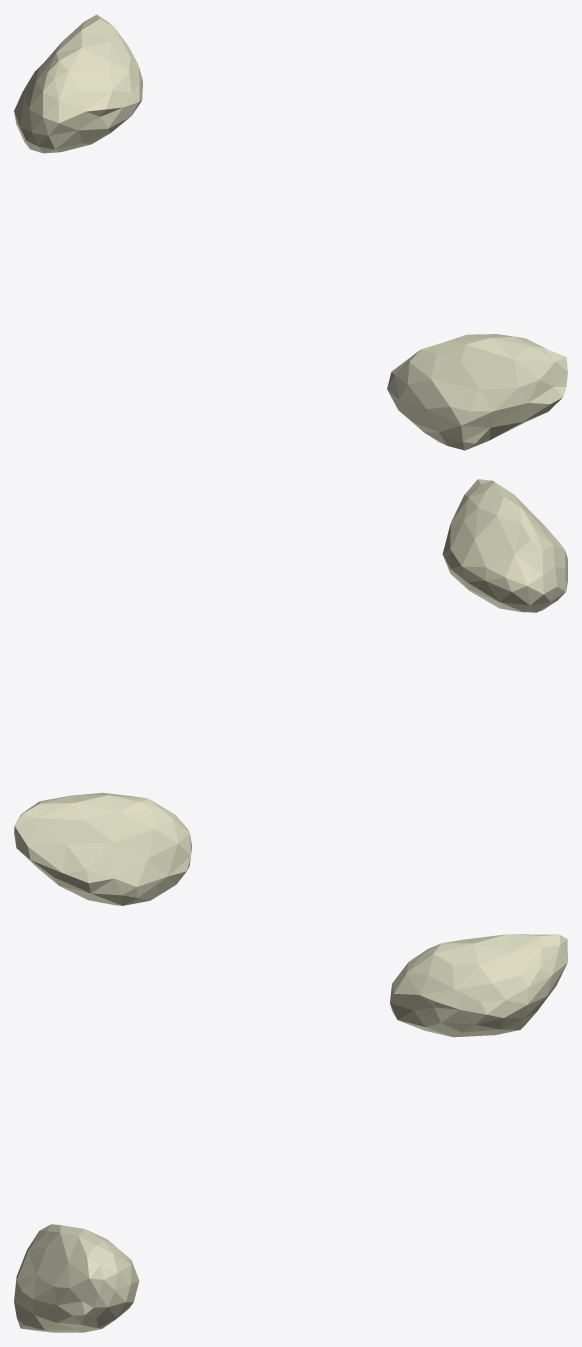
3 renders of one model, top to bottom at view 1: azimuth 30°, elevation 25°; view 2: azimuth 150°, elevation 25°; view 3: azimuth 330°, elevation 25°, orthographic.
Visible parts, largest first — view 1: 589508455.obj; view 2: 589508455.obj; view 3: 589508455.obj.
Part boxes in pixels (bbox=[...]): 589508455.obj: bbox=[14, 14, 567, 450]; 589508455.obj: bbox=[14, 479, 567, 905]; 589508455.obj: bbox=[14, 934, 567, 1332].
Size of the model in its own units: 436 by 324 by 2798.
